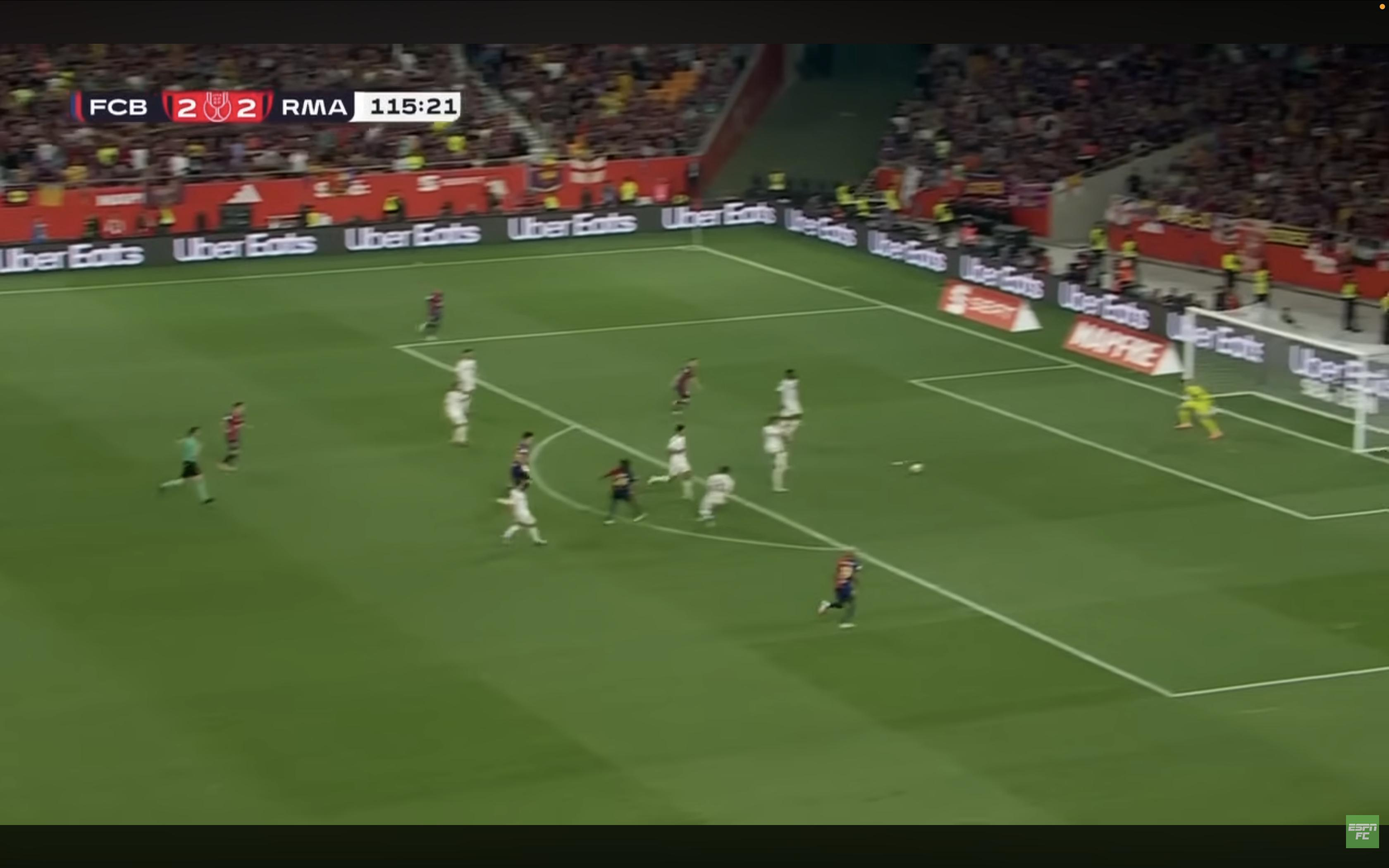ball: (909, 463, 923, 474)
goalkeeper: (1177, 383, 1223, 439)
player: (648, 424, 694, 500), (818, 551, 861, 628), (499, 482, 547, 545), (601, 459, 645, 525), (698, 467, 735, 526), (762, 416, 789, 493), (219, 402, 248, 471), (777, 369, 803, 442), (444, 384, 470, 446), (672, 358, 698, 415), (510, 431, 534, 487), (418, 291, 443, 340), (455, 349, 478, 401)
referee: (158, 427, 213, 504)
